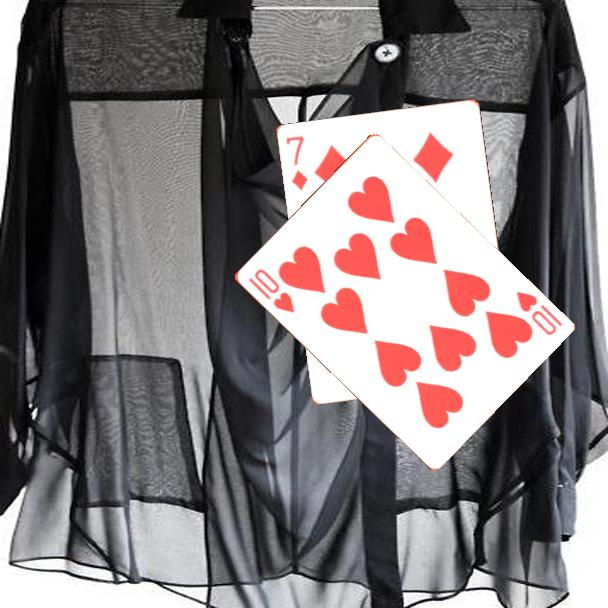d07: (283, 133, 311, 193)
h10: (244, 265, 297, 316), (512, 288, 565, 338)
